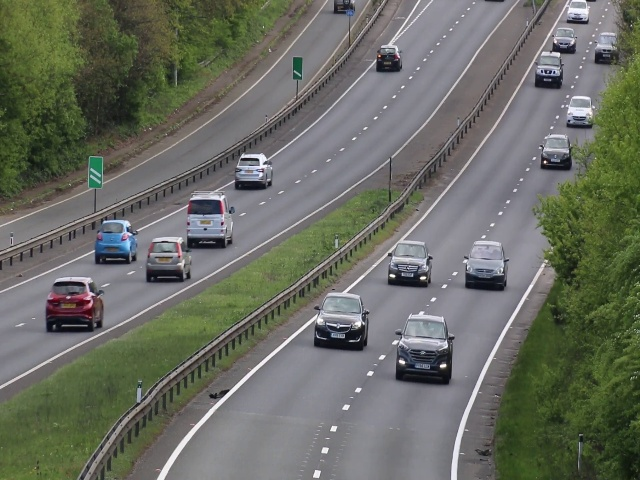car: (397, 312, 450, 384), (44, 276, 105, 332), (185, 190, 234, 248), (315, 293, 366, 348), (385, 239, 433, 287), (462, 241, 508, 291), (144, 238, 194, 282), (93, 220, 137, 263), (233, 153, 276, 186), (539, 132, 571, 170), (535, 52, 564, 88), (565, 94, 594, 128), (377, 44, 402, 72), (595, 31, 615, 63), (553, 26, 576, 52), (568, 1, 588, 21)
